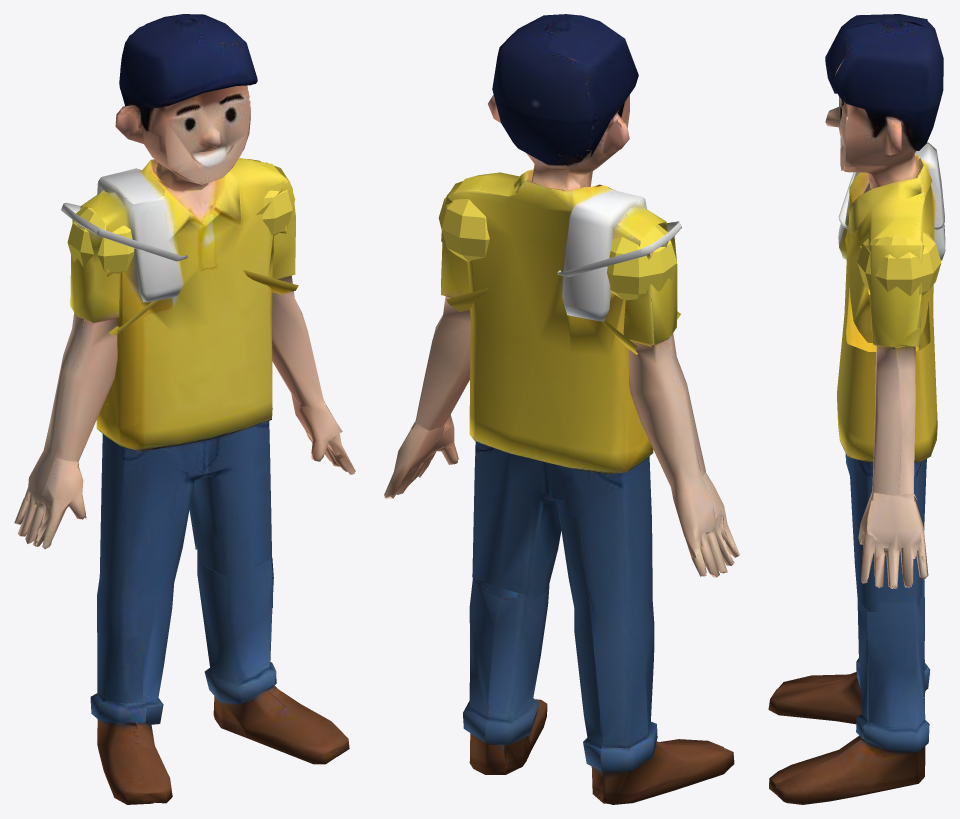
The model's file is hero_ujang.glb.
3 views of the same model, side by side, from view 1: azimuth 30°, elevation 25°; view 2: azimuth 150°, elevation 25°; view 3: azimuth 270°, elevation 25° (orthographic). The views are drawn at different scales.
Visible parts, largest first — view 1: torso, leg_r, leg_l, head, arm_r, arm_l; view 2: torso, leg_r, leg_l, head, arm_r, arm_l; view 3: leg_l, torso, arm_l, head, leg_r, arm_r.
Boxes of the visible parts, x1,y1,x2,y2 form: torso: (67, 157, 295, 432); leg_r: (90, 404, 211, 804); leg_l: (189, 397, 349, 764); head: (115, 14, 257, 172); arm_r: (14, 202, 298, 548); arm_l: (109, 162, 355, 474); torso: (438, 150, 676, 453); leg_r: (538, 438, 734, 804); leg_l: (463, 414, 573, 774); head: (488, 14, 638, 170); arm_r: (446, 221, 739, 577); arm_l: (384, 181, 680, 498); leg_l: (769, 407, 937, 804); torso: (837, 143, 945, 443); arm_l: (858, 245, 928, 588); head: (825, 14, 943, 166); leg_r: (768, 410, 929, 724); arm_r: (838, 142, 944, 351).
Bounding box in the file's own units: 0.786 × 1.72 × 0.3762.
Materials: 1 (1 with a texture image).
